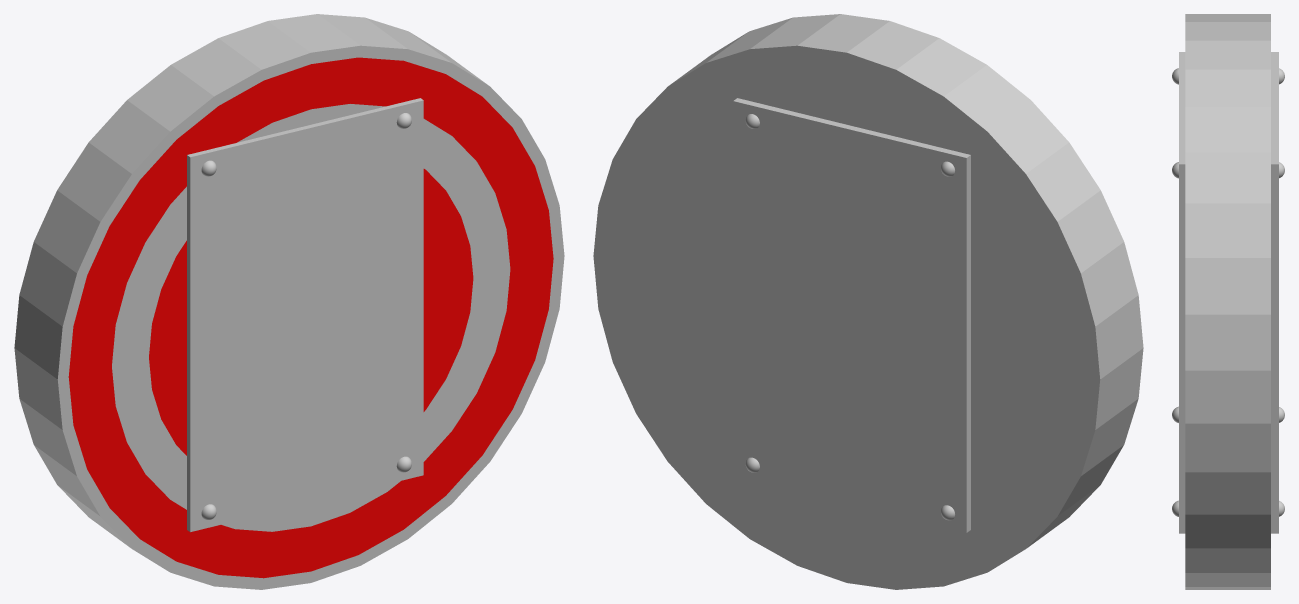
Rendered from Target.obj.
3 views of the same model, side by side, from view 1: azimuth 30°, elevation 25°; view 2: azimuth 150°, elevation 25°; view 3: azimuth 270°, elevation 25° (orthographic).
Visible parts, largest first — view 1: Target.001_Cylinder.005; view 2: Target.001_Cylinder.005; view 3: Target.001_Cylinder.005.
Part boxes in pixels (left/top/right/bottom): Target.001_Cylinder.005: left=14, top=14, right=564, bottom=589; Target.001_Cylinder.005: left=593, top=14, right=1143, bottom=589; Target.001_Cylinder.005: left=1172, top=14, right=1284, bottom=589.
Bounding box in the file's own units: 3.86 × 3.86 × 0.7561.
